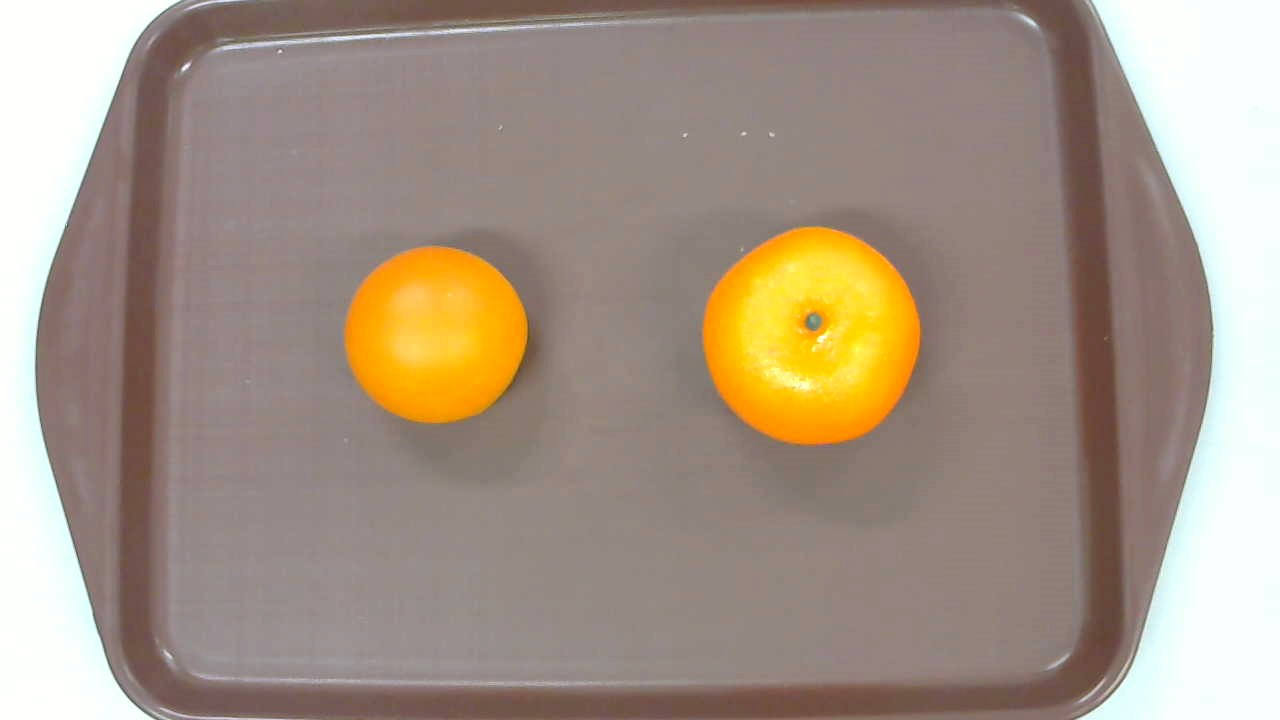bun: (343, 246, 529, 422)
orange: (701, 226, 920, 446)
